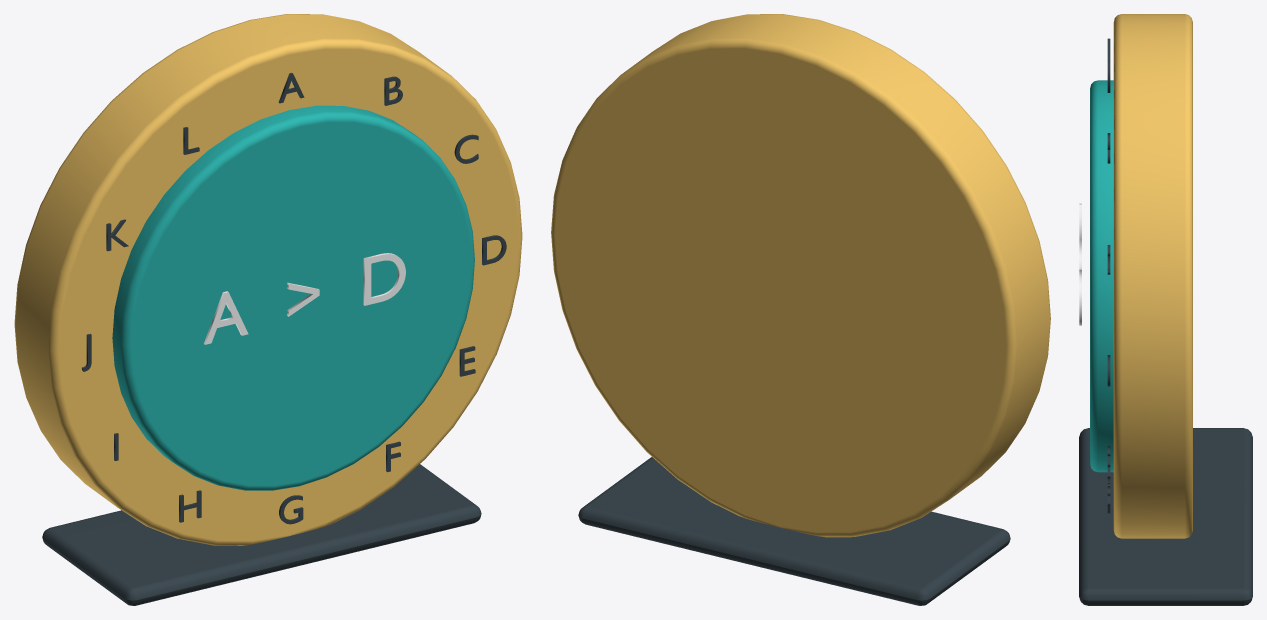
File: caesar-cipher.glb
3 renders of one model, left to right at view 1: azimuth 30°, elevation 25°; view 2: azimuth 150°, elevation 25°; view 3: azimuth 270°, elevation 25°, orthographic. The views are drawn at different scales.
Visible parts, largest first — view 1: Inner rotating disk, Cipher wheel, Wheel stand, Label A > D; view 2: Cipher wheel, Wheel stand; view 3: Cipher wheel, Wheel stand, Inner rotating disk, Label A > D.
Boxes of the visible parts, box(x1,y1,x2,y2) form: Inner rotating disk: box(112, 105, 474, 490); Cipher wheel: box(14, 14, 522, 545); Wheel stand: box(42, 464, 481, 605); Label A > D: box(204, 253, 405, 344); Cipher wheel: box(551, 14, 1050, 537); Wheel stand: box(578, 457, 1010, 605); Cipher wheel: box(1113, 14, 1192, 538); Wheel stand: box(1079, 428, 1252, 605); Inner rotating disk: box(1090, 80, 1113, 472); Label A > D: box(1079, 203, 1081, 325).
Size of the model in its own units: 1.66 by 1.7 by 0.55.
